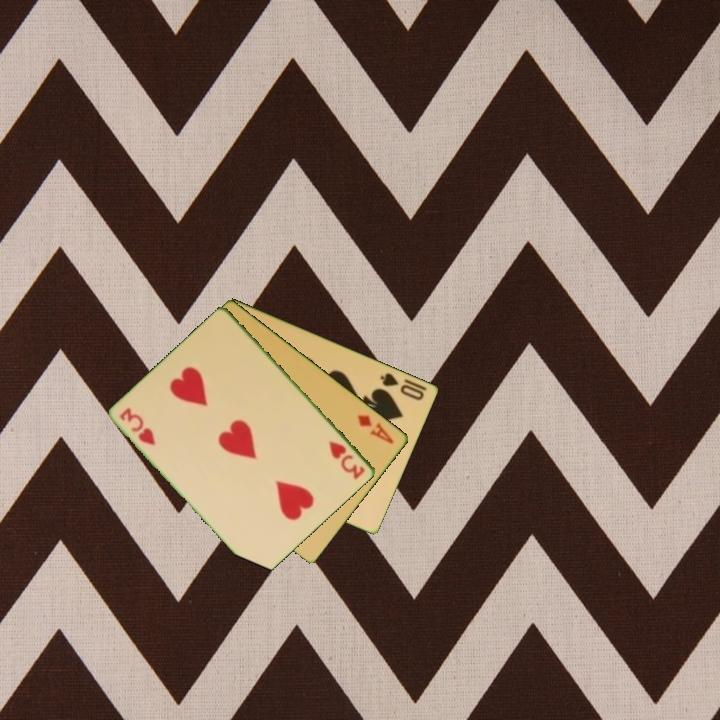10s: (377, 369, 427, 403)
3h: (326, 438, 369, 482), (116, 404, 159, 448)
Ad: (354, 411, 397, 447)
